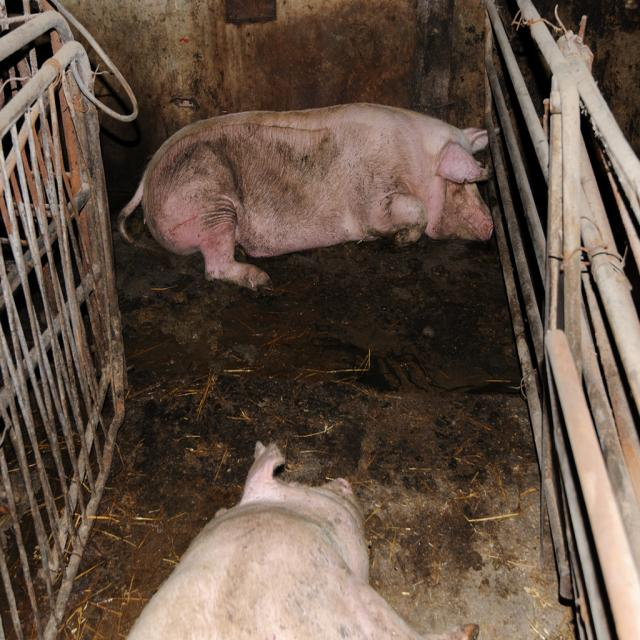Pig: (118, 101, 493, 295), (122, 440, 480, 640)
